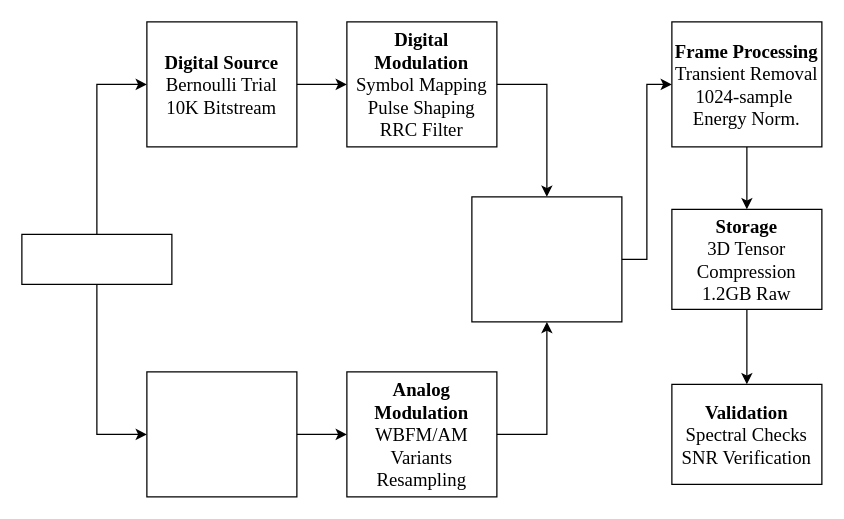
This 844x519 diagram has some shape labels left out. The shapes that lost their labels are listed below. From the top down, each one's centre as x and y in pixels, then its label:
point (96, 258): Source Generation
point (546, 259): AWGN Injection Complex Gaussian Noise SNR 0-30dB
point (221, 434): Analog Source Audio Conversion Baseband I/Q
